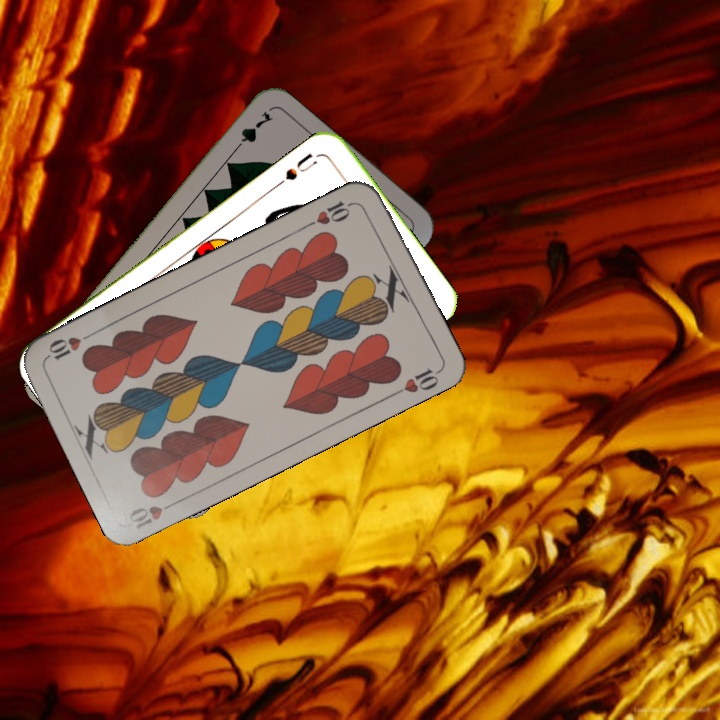G7: (228, 106, 275, 156)
H10: (125, 496, 183, 533), (302, 196, 358, 230)
SU: (272, 149, 320, 190)
